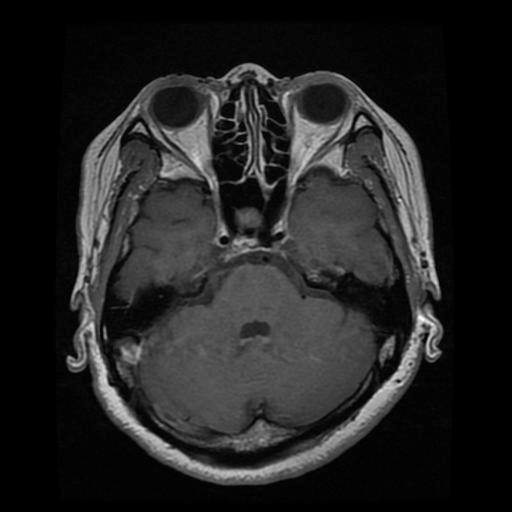Tumour-Pituitary: (217, 210, 290, 255)
